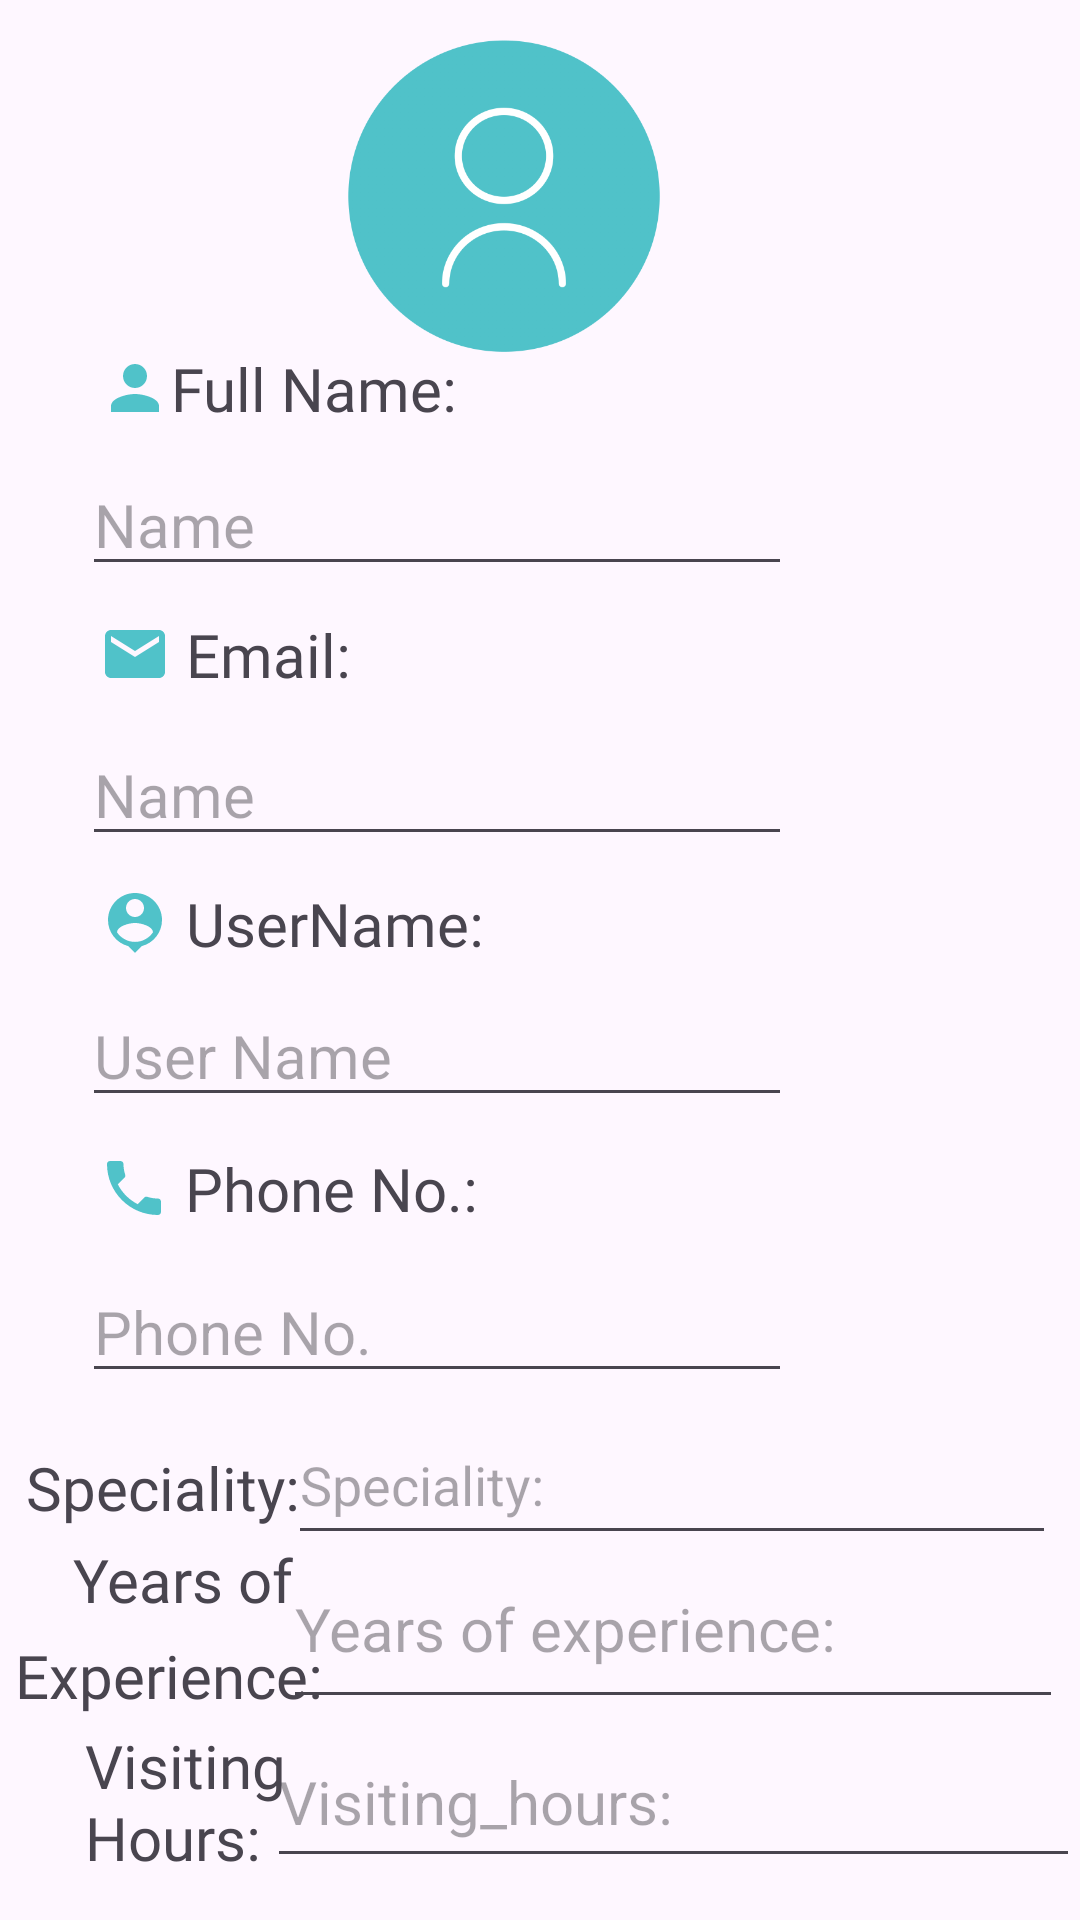

Where to tap for icons on this 1080px×1920px app screen, as (x=x, y=y):
profile: (x=504, y=196)
